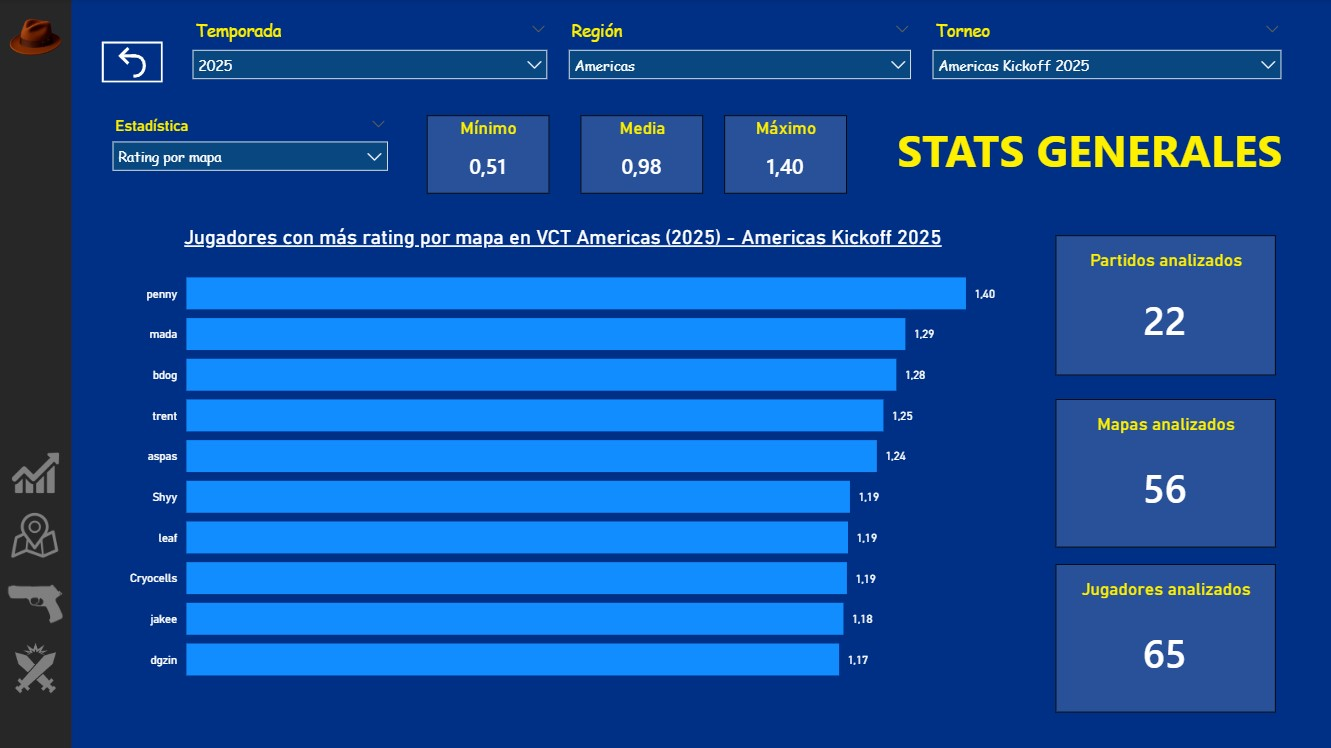

What the dashboard file says about the page in this screenshot:
{"tool":"powerbi","page":{"name":"Generales","canvas":[1280,720],"ordinal":0},"visuals":[{"type":"shape","box":[0,0,70.7,720.3],"z":0},{"type":"image","box":[7.2,8.4,58.7,61.1],"z":1000},{"type":"image","box":[13.2,431.5,45.5,45.5],"z":2000},{"type":"image","box":[10.8,486.6,49.1,55.1],"z":3000},{"type":"image","box":[8.4,541.7,55.1,76.7],"z":4000},{"type":"image","box":[6,598.1,59.9,89.9],"z":5000},{"type":"slicer","fields":{"Values":["competitions.season"]},"box":[175.9,14.1,360.7,82.7],"z":6000},{"type":"slicer","fields":{"Values":["competitions.region"]},"box":[536.6,14.1,348.8,93.5],"z":7000},{"type":"slicer","fields":{"Values":["competitions.name"]},"box":[885.4,14.1,354.8,82.7],"z":8000},{"type":"actionButton","box":[99.5,40.7,58.7,39.6],"z":9000},{"type":"barChart","fields":{"Y":["Medidas.Selected Metric Value"],"Category":["players.name"]},"box":[119.9,216.9,843.7,453],"z":10000},{"type":"slicer","fields":{"Values":["Metric Selector.Metric"]},"box":[99.5,107.9,284,82.7],"z":11000},{"type":"cardVisual","title":"Media","fields":{"Data":["Medidas.Metric Avg"]},"box":[558.5,111.5,117.5,75.5],"z":12000},{"type":"cardVisual","title":"Mínimo","fields":{"Data":["Medidas.Metric Min"]},"box":[411.1,111.5,117.5,75.5],"z":13000},{"type":"cardVisual","title":"Máximo","fields":{"Data":["Medidas.Metric Max"]},"box":[696.3,111.5,117.5,75.5],"z":14000},{"type":"cardVisual","title":"Partidos analizados","fields":{"Data":["Medidas.Partidos analizados"]},"box":[1013.9,226.5,210.9,134.2],"z":15000},{"type":"cardVisual","title":"Mapas analizados","fields":{"Data":["Medidas.Mapas analizados"]},"box":[1013.9,383.5,210.9,142.6],"z":16000},{"type":"cardVisual","title":"Jugadores analizados","fields":{"Data":["Medidas.Jugadores analizados"]},"box":[1013.9,541.7,210.9,142.6],"z":17000},{"type":"textbox","box":[839,110.3,415.9,79.1],"z":18000}]}

Visuals, with their boxes in screenshot pixels (x1, y1, x2, y2), scaled from the page's 1280x720 canvas onto the 1331x748 screenshot:
shape: (0, 0, 74, 747)
image: (7, 9, 69, 72)
image: (14, 448, 61, 496)
image: (11, 506, 62, 563)
image: (9, 563, 66, 642)
image: (6, 621, 69, 715)
slicer - competitions.season: (183, 15, 558, 101)
slicer - competitions.region: (558, 15, 921, 112)
slicer - competitions.name: (921, 15, 1290, 101)
actionButton: (103, 42, 165, 83)
barChart - Medidas.Selected Metric Value x players.name: (125, 225, 1002, 696)
slicer - Metric Selector.Metric: (103, 112, 399, 198)
"Media" cardVisual: (581, 116, 703, 194)
"Mínimo" cardVisual: (427, 116, 550, 194)
"Máximo" cardVisual: (724, 116, 846, 194)
"Partidos analizados" cardVisual: (1054, 235, 1274, 375)
"Mapas analizados" cardVisual: (1054, 398, 1274, 547)
"Jugadores analizados" cardVisual: (1054, 563, 1274, 711)
textbox: (872, 115, 1305, 197)
